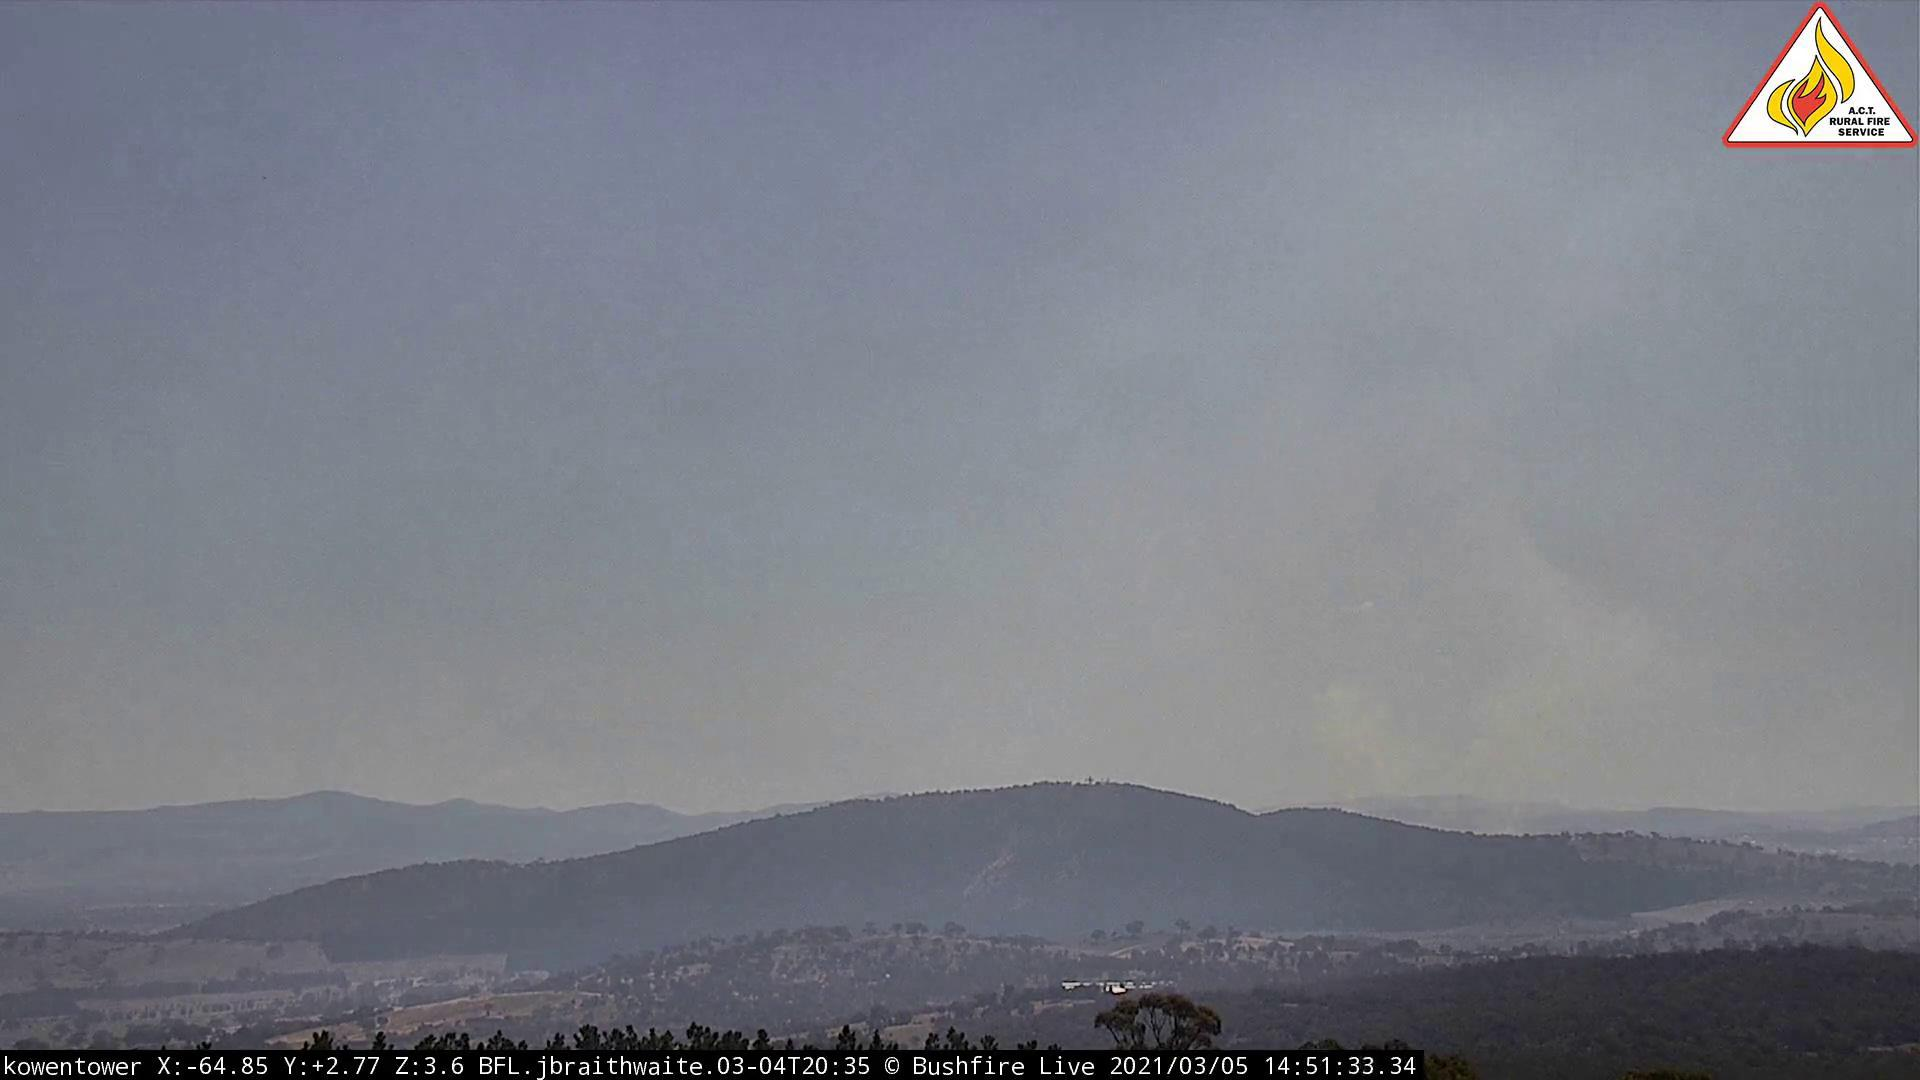Smoke: (1033, 316, 1739, 844)
